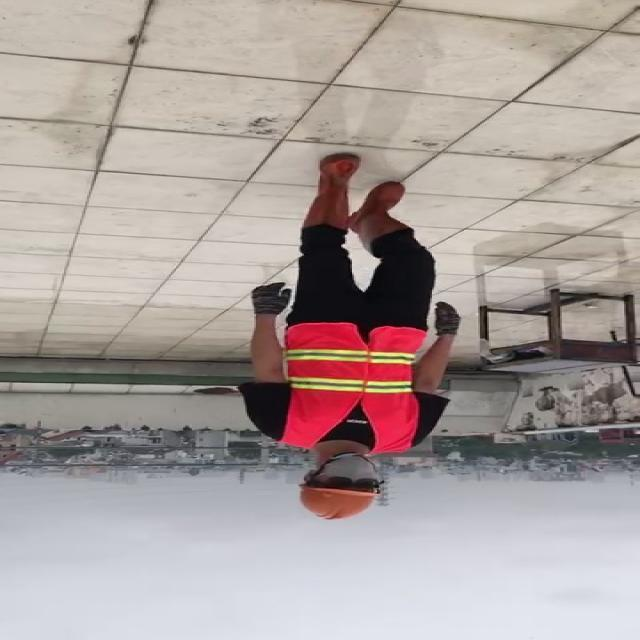gloves: (248, 280, 292, 322), (433, 298, 462, 340)
